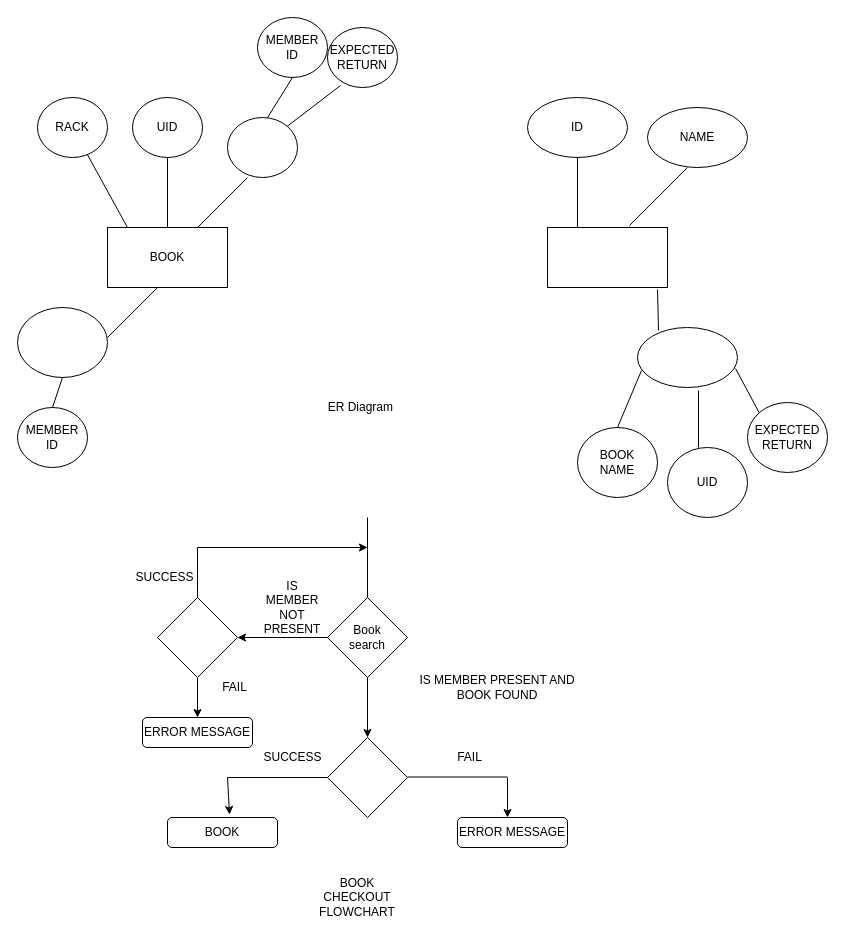
Some shapes in this 845 by 936 pixel diagram are drawn without their labels. Each missing label, with the box of its shape:
ADD MEMBER: (156, 596, 238, 678)
BORROW MEMBER: (226, 116, 298, 178)
BORROWED BOOK: (636, 326, 738, 388)
MEMBER: (546, 226, 668, 288)
RESERVATION: (16, 306, 108, 378)
RESERVE BOOK: (326, 736, 408, 818)
